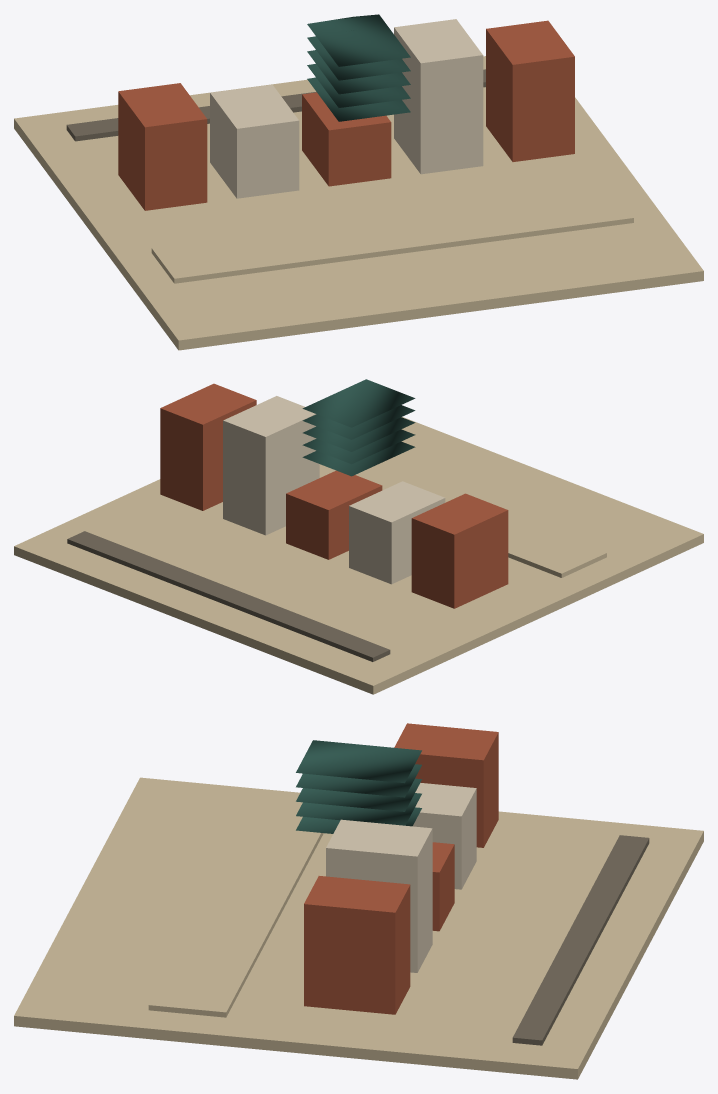
File: model-medium.glb
3 renders of one model, top to bottom at view 1: azimuth 30°, elevation 25°; view 2: azimuth 150°, elevation 25°; view 3: azimuth 270°, elevation 25°, orthographic. The views are drawn at different scales.
Parts seen in each view (by area): view 1: context_site_plinth, street_public_axis, street_facade_3, street_facade_4, street_facade_0, street_facade_1, street_facade_2, street_roof_3, front_scale_strip, street_roof_4, street_roof_2, street_roof_0 (+1 smaller); view 2: context_site_plinth, street_facade_3, street_facade_0, street_facade_4, front_scale_strip, street_facade_1, street_facade_2, street_public_axis, street_roof_3, street_roof_2, street_roof_1, street_roof_4 (+1 smaller); view 3: context_site_plinth, street_public_axis, street_facade_4, street_facade_3, front_scale_strip, street_facade_0, street_facade_1, street_roof_3, street_facade_2, street_roof_4, street_roof_0, street_roof_1 (+1 smaller).
Boxes of the visible parts, <box> form: context_site_plinth: <box>14,56,703,350</box>; street_public_axis: <box>151,187,633,283</box>; street_facade_3: <box>394,19,483,174</box>; street_facade_4: <box>486,20,574,161</box>; street_facade_0: <box>118,83,207,210</box>; street_facade_1: <box>210,84,299,198</box>; street_facade_2: <box>302,92,391,186</box>; street_roof_3: <box>307,14,410,66</box>; front_scale_strip: <box>66,69,485,141</box>; street_roof_4: <box>307,30,410,80</box>; street_roof_2: <box>307,77,410,121</box>; street_roof_0: <box>307,50,410,94</box>; context_site_plinth: <box>14,417,703,694</box>; street_facade_3: <box>223,396,319,535</box>; street_facade_0: <box>411,493,508,608</box>; street_facade_4: <box>160,383,256,510</box>; front_scale_strip: <box>67,531,390,661</box>; street_facade_1: <box>349,481,445,584</box>; street_facade_2: <box>286,470,382,559</box>; street_public_axis: <box>319,464,606,577</box>; street_roof_3: <box>302,379,415,427</box>; street_roof_2: <box>302,441,415,476</box>; street_roof_1: <box>302,429,415,464</box>; street_roof_4: <box>302,405,415,439</box>; context_site_plinth: <box>14,777,703,1079</box>; street_public_axis: <box>148,796,323,1017</box>; street_facade_4: <box>304,876,410,1014</box>; street_facade_3: <box>326,819,432,972</box>; front_scale_strip: <box>512,835,649,1045</box>; street_facade_0: <box>394,723,498,847</box>; street_facade_1: <box>413,783,476,889</box>; street_roof_3: <box>296,740,421,783</box>; street_facade_2: <box>432,842,454,931</box>; street_roof_4: <box>296,764,421,797</box>; street_roof_0: <box>296,778,421,811</box>; street_roof_1: <box>296,793,421,825</box>.
Size of the model in its own units: 9.55 by 2.89 by 9.55.
